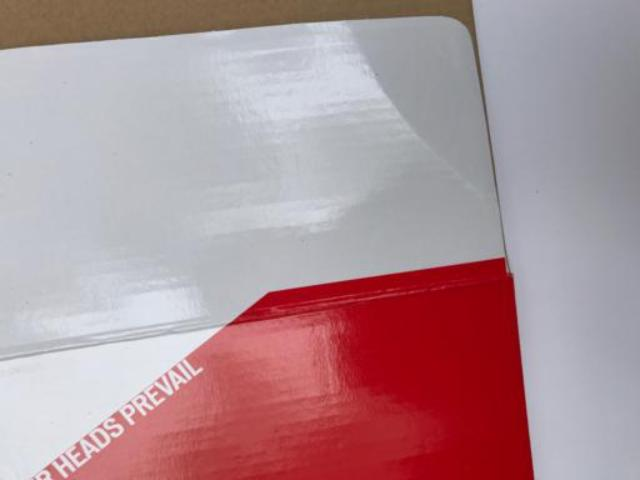cardboard paper: (0, 1, 530, 476)
